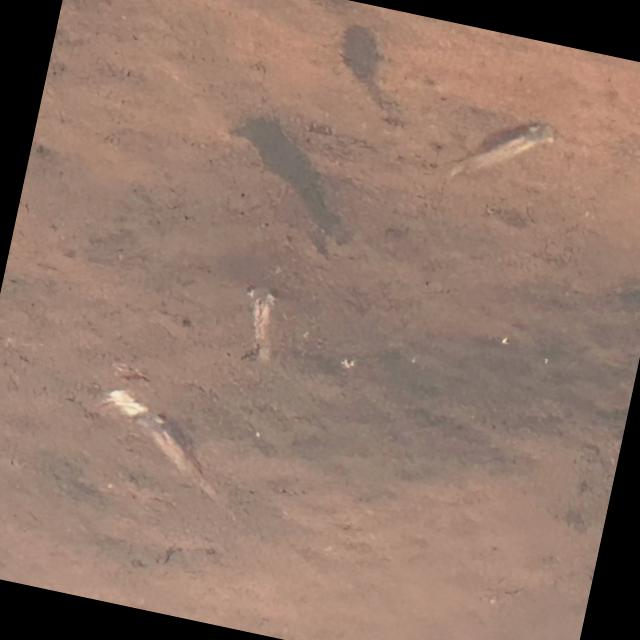Sivrisinek Baligi: (422, 83, 568, 217), (118, 407, 262, 525), (230, 280, 294, 376)
